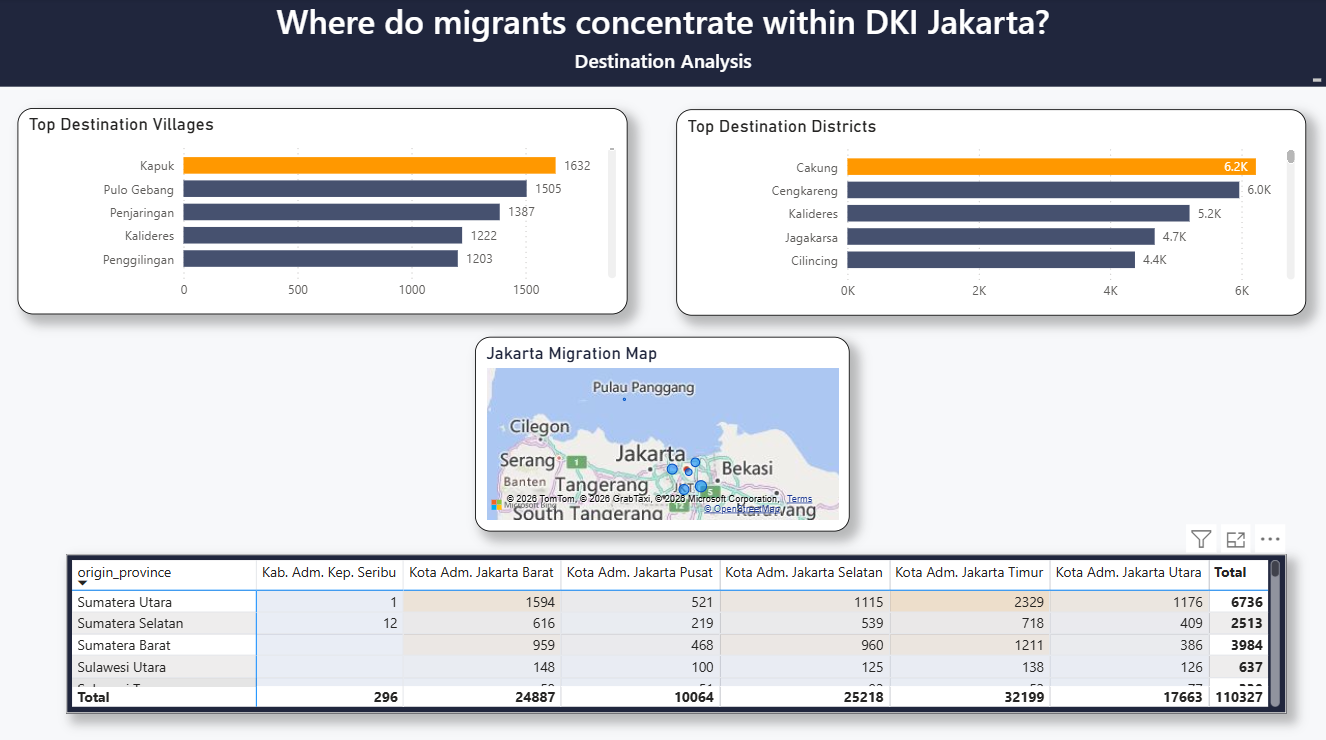

The page's visual inventory and layout, read from the dashboard file:
{"tool":"powerbi","page":{"name":"Page 2","canvas":[1280,720],"ordinal":1},"visuals":[{"type":"textbox","title":"Where do migrants concentrate within DKI Jakarta?","box":[0,0,1280,85.7],"z":0},{"type":"barChart","title":"Top Destination Districts","fields":{"Category":["pendatang_clean.destination_district"],"Y":["Sum(pendatang_clean.total_migrants)"]},"box":[652.7,107.4,608,199.1],"z":1000},{"type":"barChart","title":"Top Destination Villages","fields":{"Category":["pendatang_clean.destination_village"],"Y":["Sum(pendatang_clean.total_migrants)"]},"box":[16.9,106.2,588.7,199.1],"z":2000},{"type":"pivotTable","fields":{"Values":["Sum(pendatang_clean.total_migrants)"],"Columns":["pendatang_clean.destination_city"],"Rows":["pendatang_clean.origin_province"]},"box":[63.9,536.9,1177.5,153.2],"z":3000},{"type":"map","title":"Jakarta Migration Map","fields":{"Size":["pendatang_clean.Total Migrants"],"Category":["pendatang_clean.Map Location"]},"box":[458.4,326.9,361.9,188.2],"z":4000}]}

Visuals, with their boxes in screenshot pixels (x1, y1, x2, y2), scaled from the page's 1280x720 canvas onto the 1326x740 screenshot:
"Where do migrants concentrate within DKI Jakarta?" textbox: x1=0, y1=0, x2=1325, y2=88
"Top Destination Districts" barChart: x1=676, y1=110, x2=1306, y2=315
"Top Destination Villages" barChart: x1=18, y1=109, x2=627, y2=314
pivotTable - Sum(pendatang_clean.total_migrants) x pendatang_clean.destination_city: x1=66, y1=552, x2=1286, y2=709
"Jakarta Migration Map" map: x1=475, y1=336, x2=850, y2=529
